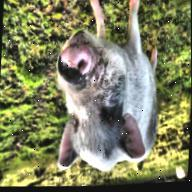boar: (50, 0, 165, 179), (175, 166, 187, 180)
